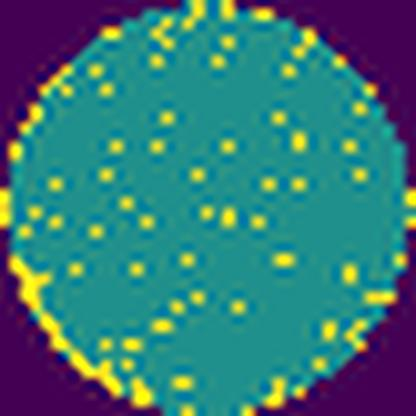Edge-Loc: (13, 256, 128, 397)
